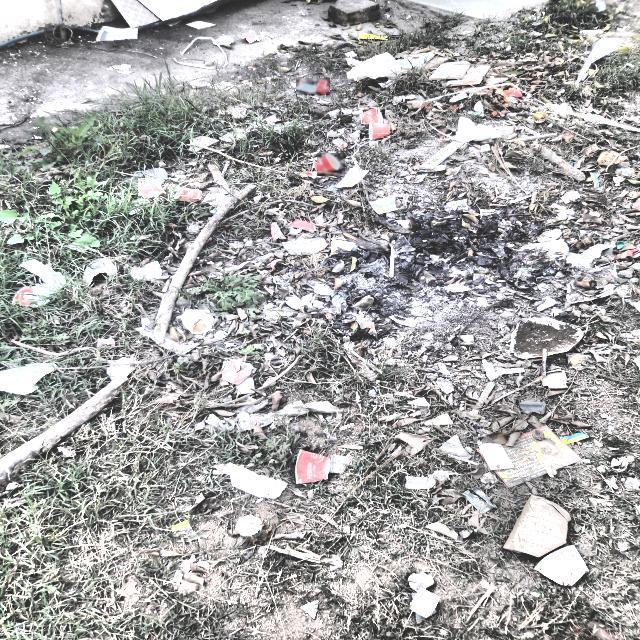anorganik: (295, 449, 334, 484), (138, 178, 199, 200), (359, 109, 392, 137), (317, 153, 345, 176), (296, 79, 329, 94)
